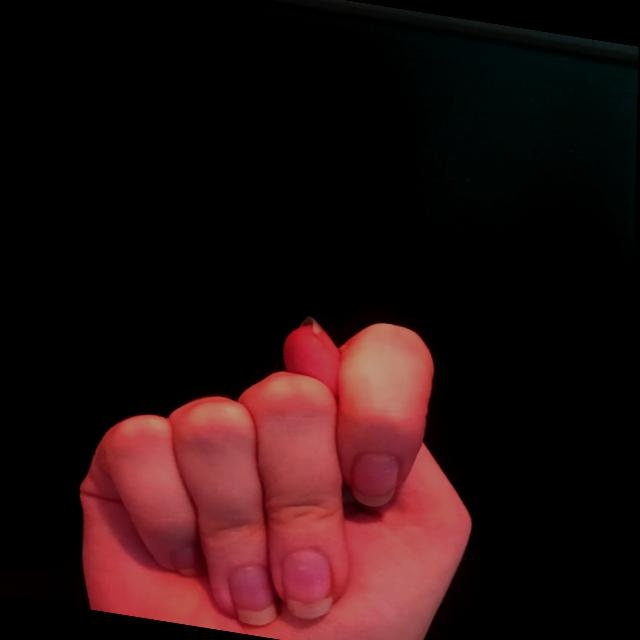T: (52, 272, 520, 639)
